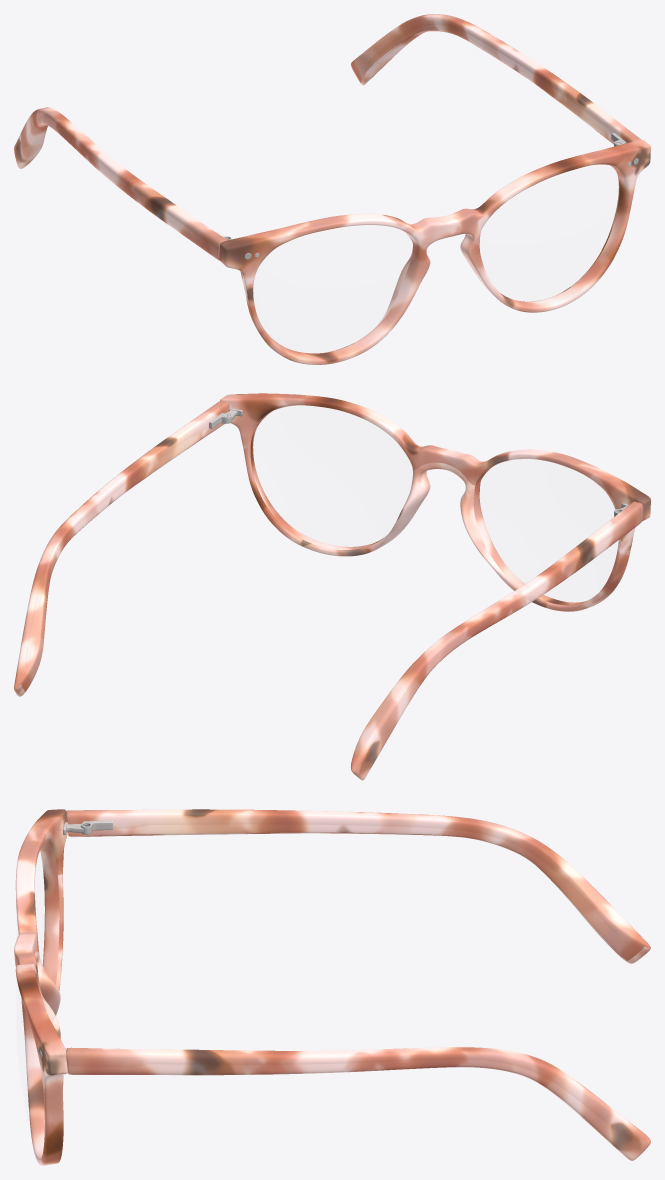
File: blakeley-opt-sbf-smoky-mauve-tortoise_narrow.glb
The picture shows the model from 3 angles, top to bottom: view 1: azimuth 30°, elevation 25°; view 2: azimuth 150°, elevation 25°; view 3: azimuth 270°, elevation 25°; orthographic projection. The views are drawn at different scales.
Visible parts, largest first — view 1: face_front, left_temple, right_temple; view 2: face_front, right_temple, left_temple; view 3: right_temple, left_temple, face_front.
Part boxes in pixels (x1=…): face_front: x1=219, y1=140, x2=650, y2=364; left_temple: x1=351, y1=14, x2=641, y2=144; right_temple: x1=14, y1=107, x2=227, y2=260; face_front: x1=220, y1=393, x2=650, y2=611; right_temple: x1=350, y1=501, x2=643, y2=780; left_temple: x1=14, y1=401, x2=229, y2=696; right_temple: x1=66, y1=809, x2=650, y2=963; left_temple: x1=66, y1=1047, x2=650, y2=1160; face_front: x1=14, y1=809, x2=67, y2=1165.
Size of the model in its own units: 0.1308 by 0.0427 by 0.142.
4 materials, 1 textured.
